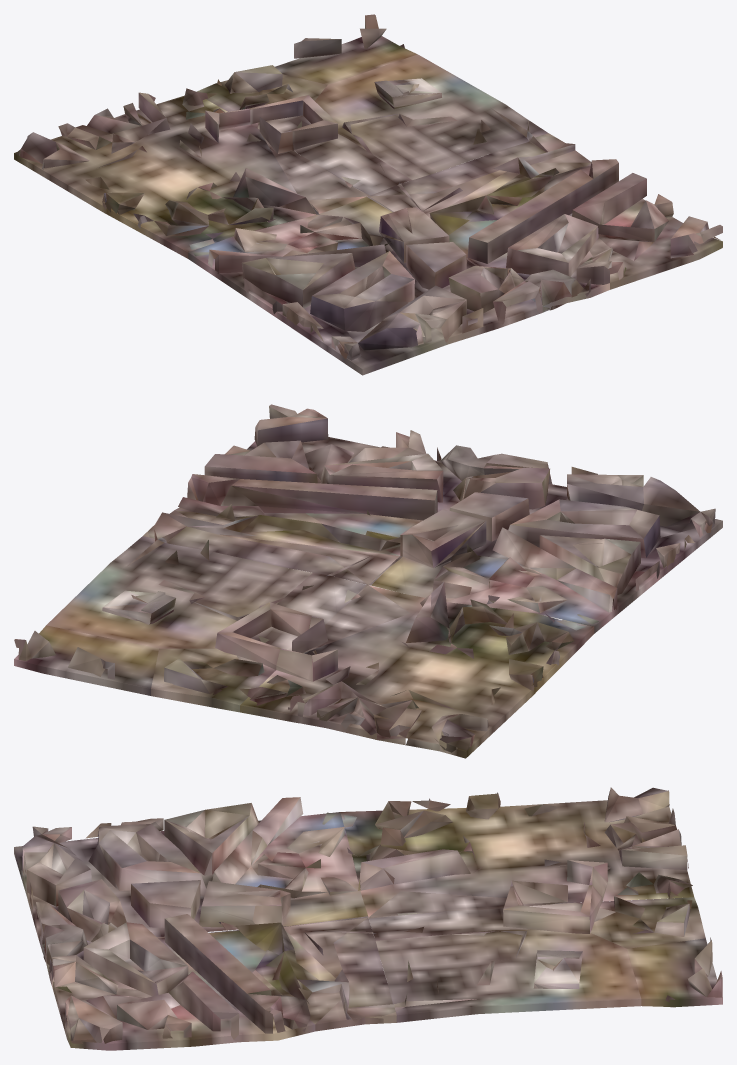
The picture shows the model from 3 angles, top to bottom: view 1: azimuth 30°, elevation 25°; view 2: azimuth 150°, elevation 25°; view 3: azimuth 270°, elevation 25°; orthographic projection. The views are drawn at different scales.
Visible parts, largest first — view 1: Mesh_0; view 2: Mesh_0; view 3: Mesh_0.
Boxes of the visible parts, x1,y1,x2,y2 form: Mesh_0: [14, 14, 722, 375]; Mesh_0: [14, 404, 722, 758]; Mesh_0: [14, 787, 722, 1050].
Bounding box in the file's own units: 532 × 58.97 × 659.
Materials: 1 (1 with a texture image).
